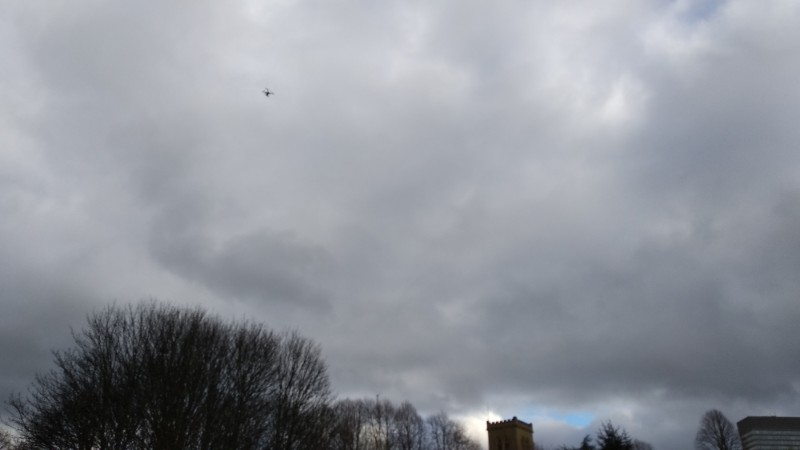drone: (263, 88, 274, 97)
